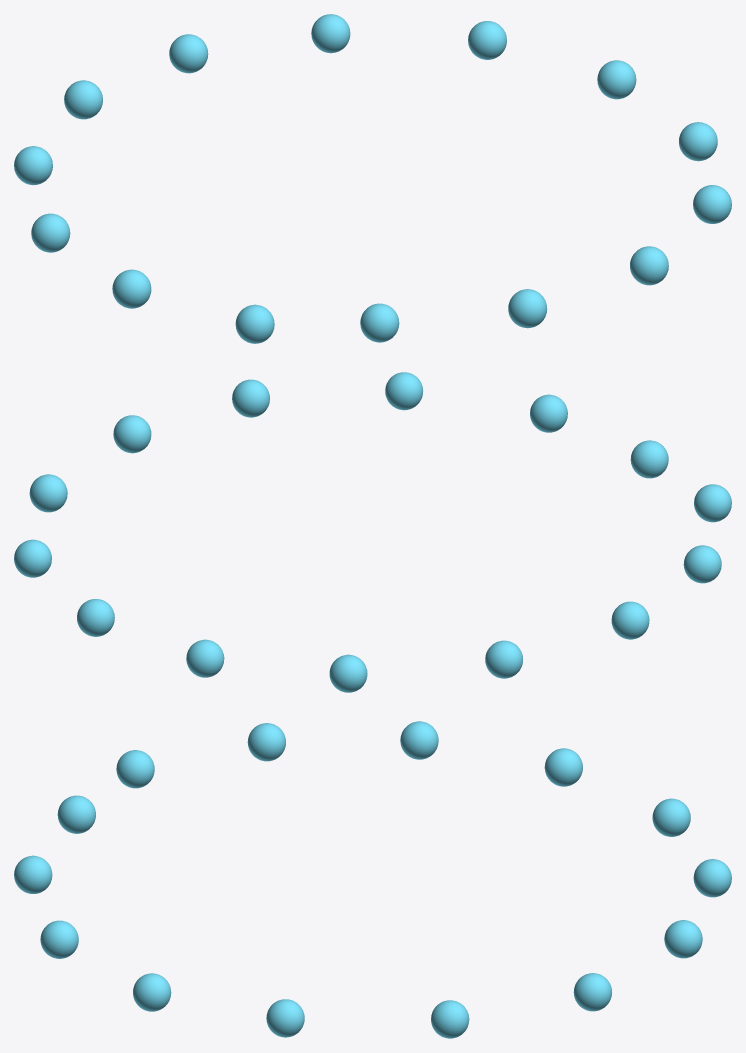
3 views of the same model, one above another, from view 1: azimuth 30°, elevation 25°; view 2: azimuth 150°, elevation 25°; view 3: azimuth 270°, elevation 25° (orthographic). The views are drawn at different scales.
Visible parts, largest first — view 1: Sphere049; view 2: Sphere049; view 3: Sphere049.
Part boxes in pixels (left/top/right/bottom): Sphere049: left=14, top=14, right=731, bottom=343; Sphere049: left=14, top=372, right=731, bottom=692; Sphere049: left=14, top=721, right=731, bottom=1038.
Bounding box in the file's own units: 149 × 8.22 × 154.
